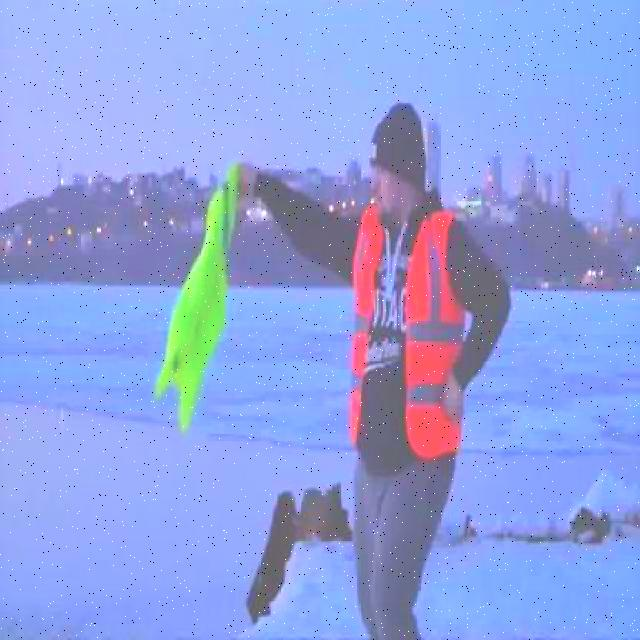Mask: (348, 204, 464, 460), (151, 156, 244, 442)
